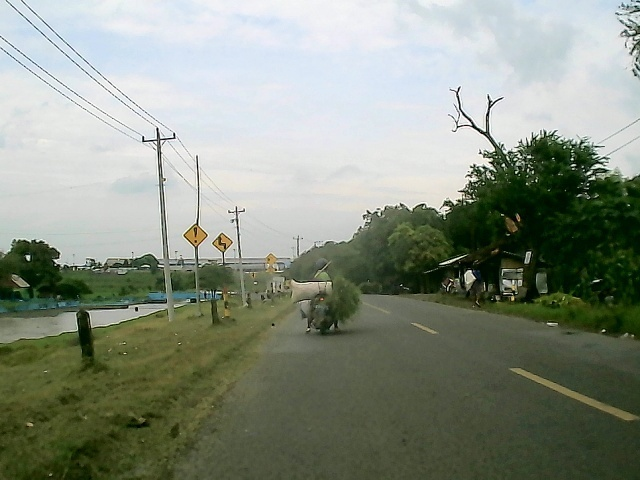Hati-hati: (181, 221, 208, 248)
Tikungan garda pertama kiri: (210, 232, 234, 256)
